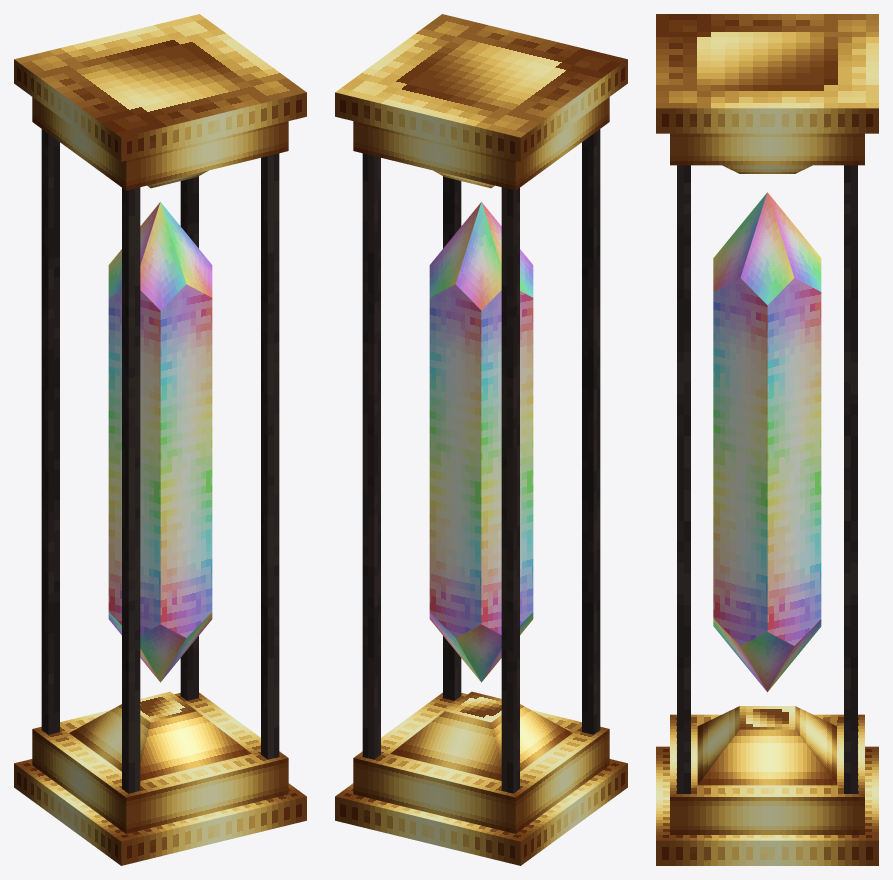
File: matrix_reservoir.obj
3 renders of one model, left to right at view 1: azimuth 30°, elevation 25°; view 2: azimuth 150°, elevation 25°; view 3: azimuth 270°, elevation 25°, orthographic. The views are drawn at different scales.
Visible parts, largest first — view 1: Base, Crystal, Struts; view 2: Base, Crystal, Struts; view 3: Base, Crystal, Struts.
Part boxes in pixels (left/top/right/bottom): Base: left=14, top=14, right=306, bottom=865; Crystal: left=108, top=202, right=212, bottom=682; Struts: left=41, top=129, right=279, bottom=793; Base: left=335, top=14, right=627, bottom=865; Crystal: left=429, top=202, right=533, bottom=682; Struts: left=362, top=129, right=600, bottom=793; Base: left=656, top=14, right=878, bottom=865; Crystal: left=713, top=192, right=821, bottom=691; Struts: left=677, top=165, right=857, bottom=793.
Bounding box in the file's own units: 0.7874 × 2.95 × 0.7874.
